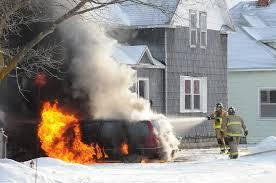fire: (37, 99, 109, 163)
